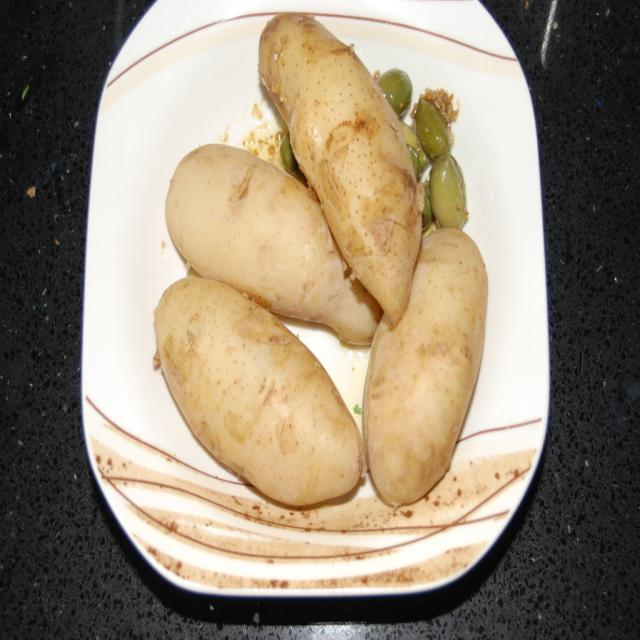Potato: (258, 14, 447, 314), (257, 10, 423, 328), (154, 276, 366, 505), (166, 142, 383, 348), (133, 287, 338, 468), (164, 134, 376, 305), (362, 218, 486, 507), (395, 201, 488, 522)
